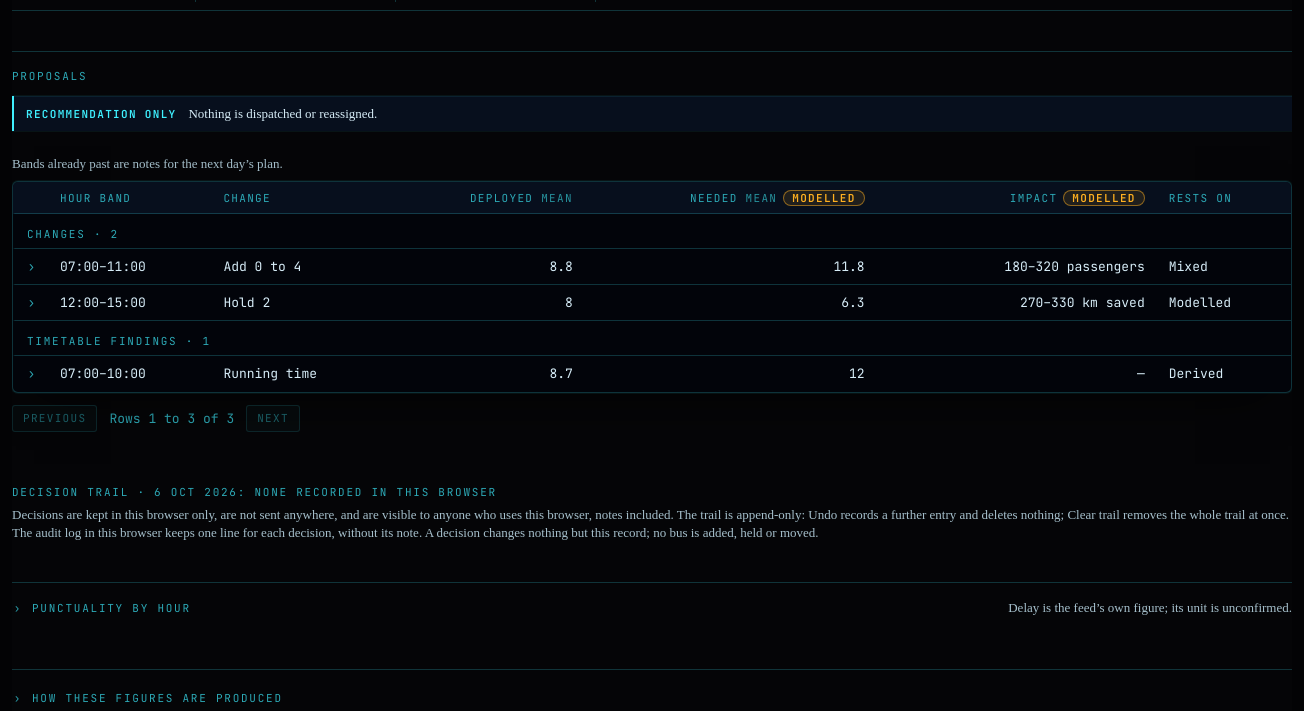
Scenario: RouteHourlyPage body › reads punctuality from the journeys the feed reported, not from the hours
(page scrolled)
Click the button "› Punctuality by hour" at (101,608), box [12,600,191,616]
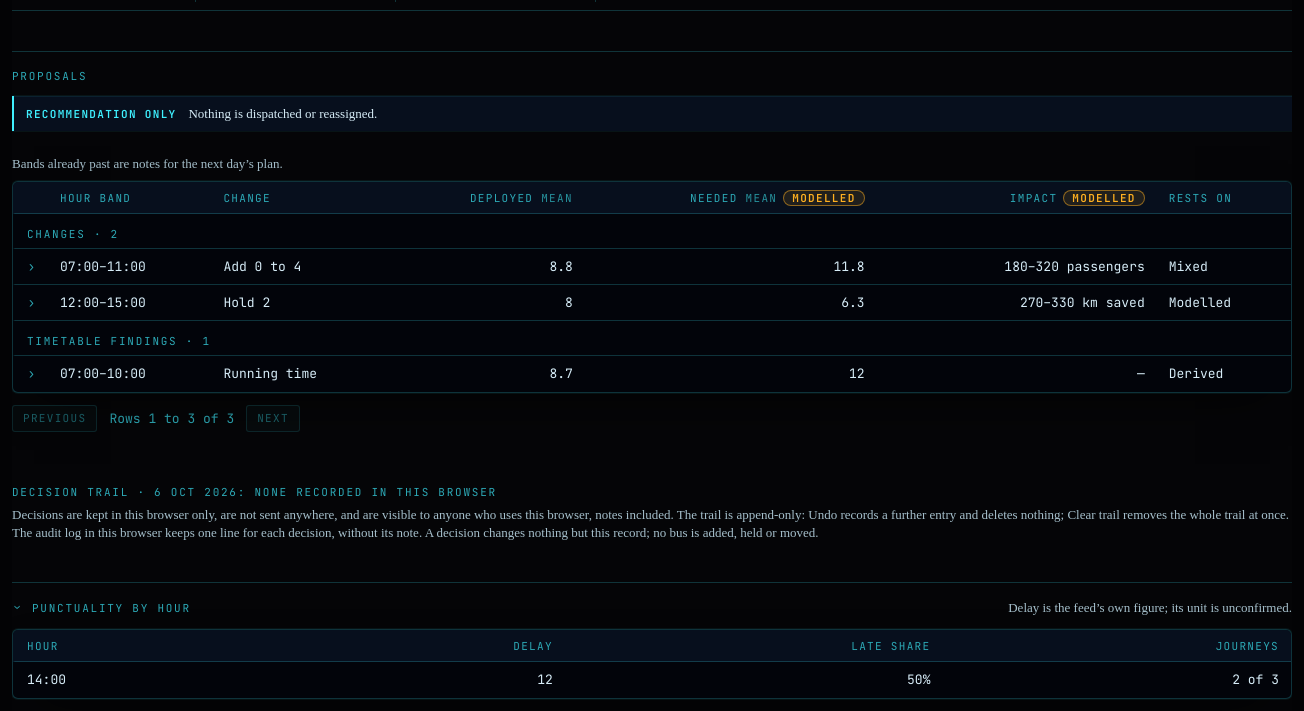
Result: the row "14:00 12 50% 2 of 3" is shown at [13,662,1291,698]
